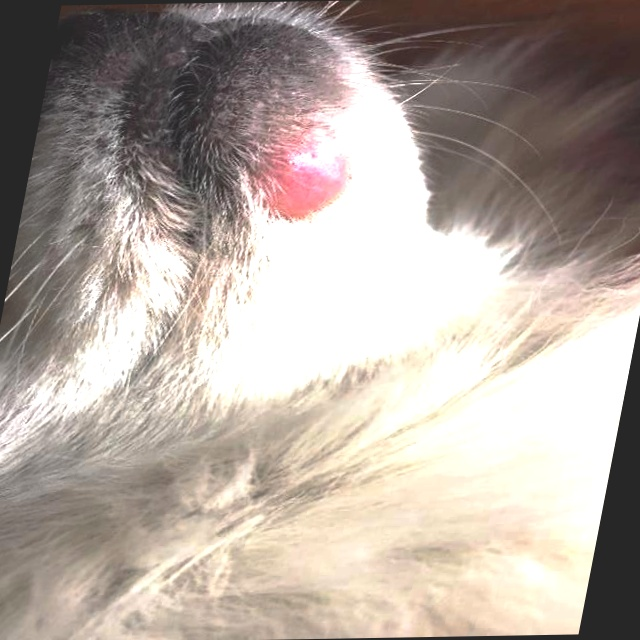lump_and_bump: (237, 131, 361, 224)
